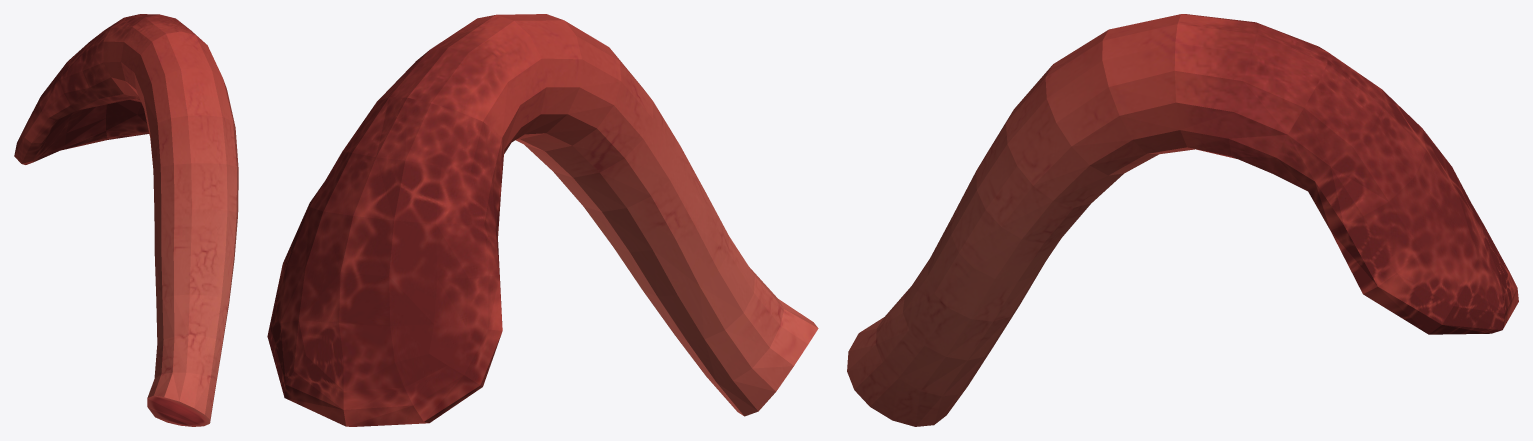
File: Tube_Left_Alone.obj
3 renders of one model, left to right at view 1: azimuth 30°, elevation 25°; view 2: azimuth 150°, elevation 25°; view 3: azimuth 270°, elevation 25°, orthographic. The views are drawn at different scales.
Visible parts, largest first — view 1: Utero3_trompas_de_falopio; view 2: Utero3_trompas_de_falopio; view 3: Utero3_trompas_de_falopio.
Boxes of the visible parts, x1,y1,x2,y2 form: Utero3_trompas_de_falopio: (14,14,238,426); Utero3_trompas_de_falopio: (267,14,818,426); Utero3_trompas_de_falopio: (847,14,1518,426).
Bounding box in the file's own units: 0.4505 × 0.6789 × 0.8968.
